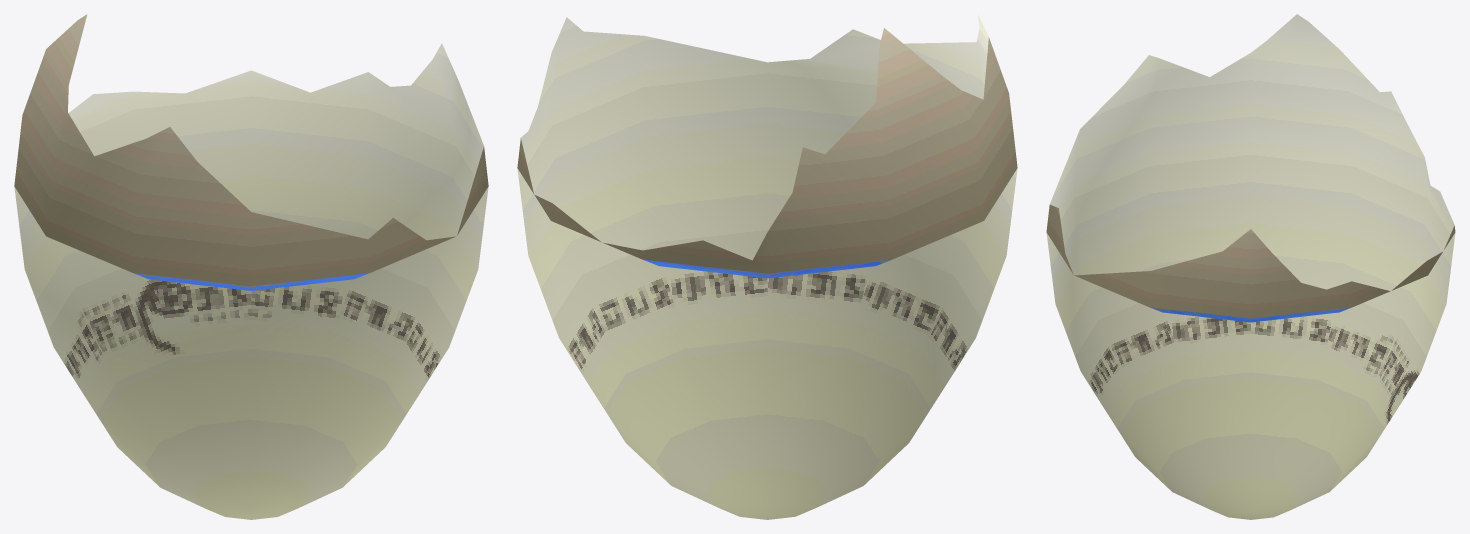
Rendered from ps2_save-icons_rahxephon.glb.
3 renders of one model, left to right at view 1: azimuth 30°, elevation 25°; view 2: azimuth 150°, elevation 25°; view 3: azimuth 270°, elevation 25°, orthographic. The views are drawn at different scales.
Parts seen in each view (by area): view 1: icon1.ico; view 2: icon1.ico; view 3: icon1.ico.
Part boxes in pixels (x1,y1,x2,y2): icon1.ico: (14,14,488,519); icon1.ico: (517,14,1017,519); icon1.ico: (1046,14,1455,519).
Bounding box in the file's own units: 3 × 3.55 × 3.
Materials: 1 (1 with a texture image).
